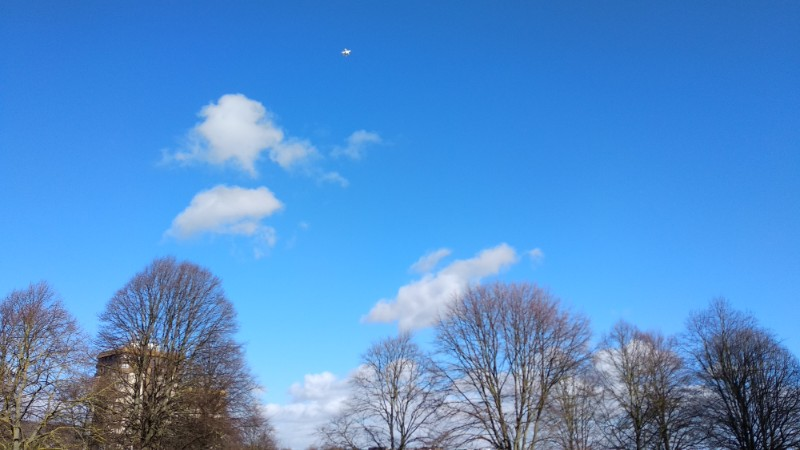drone: (340, 46, 352, 56)
